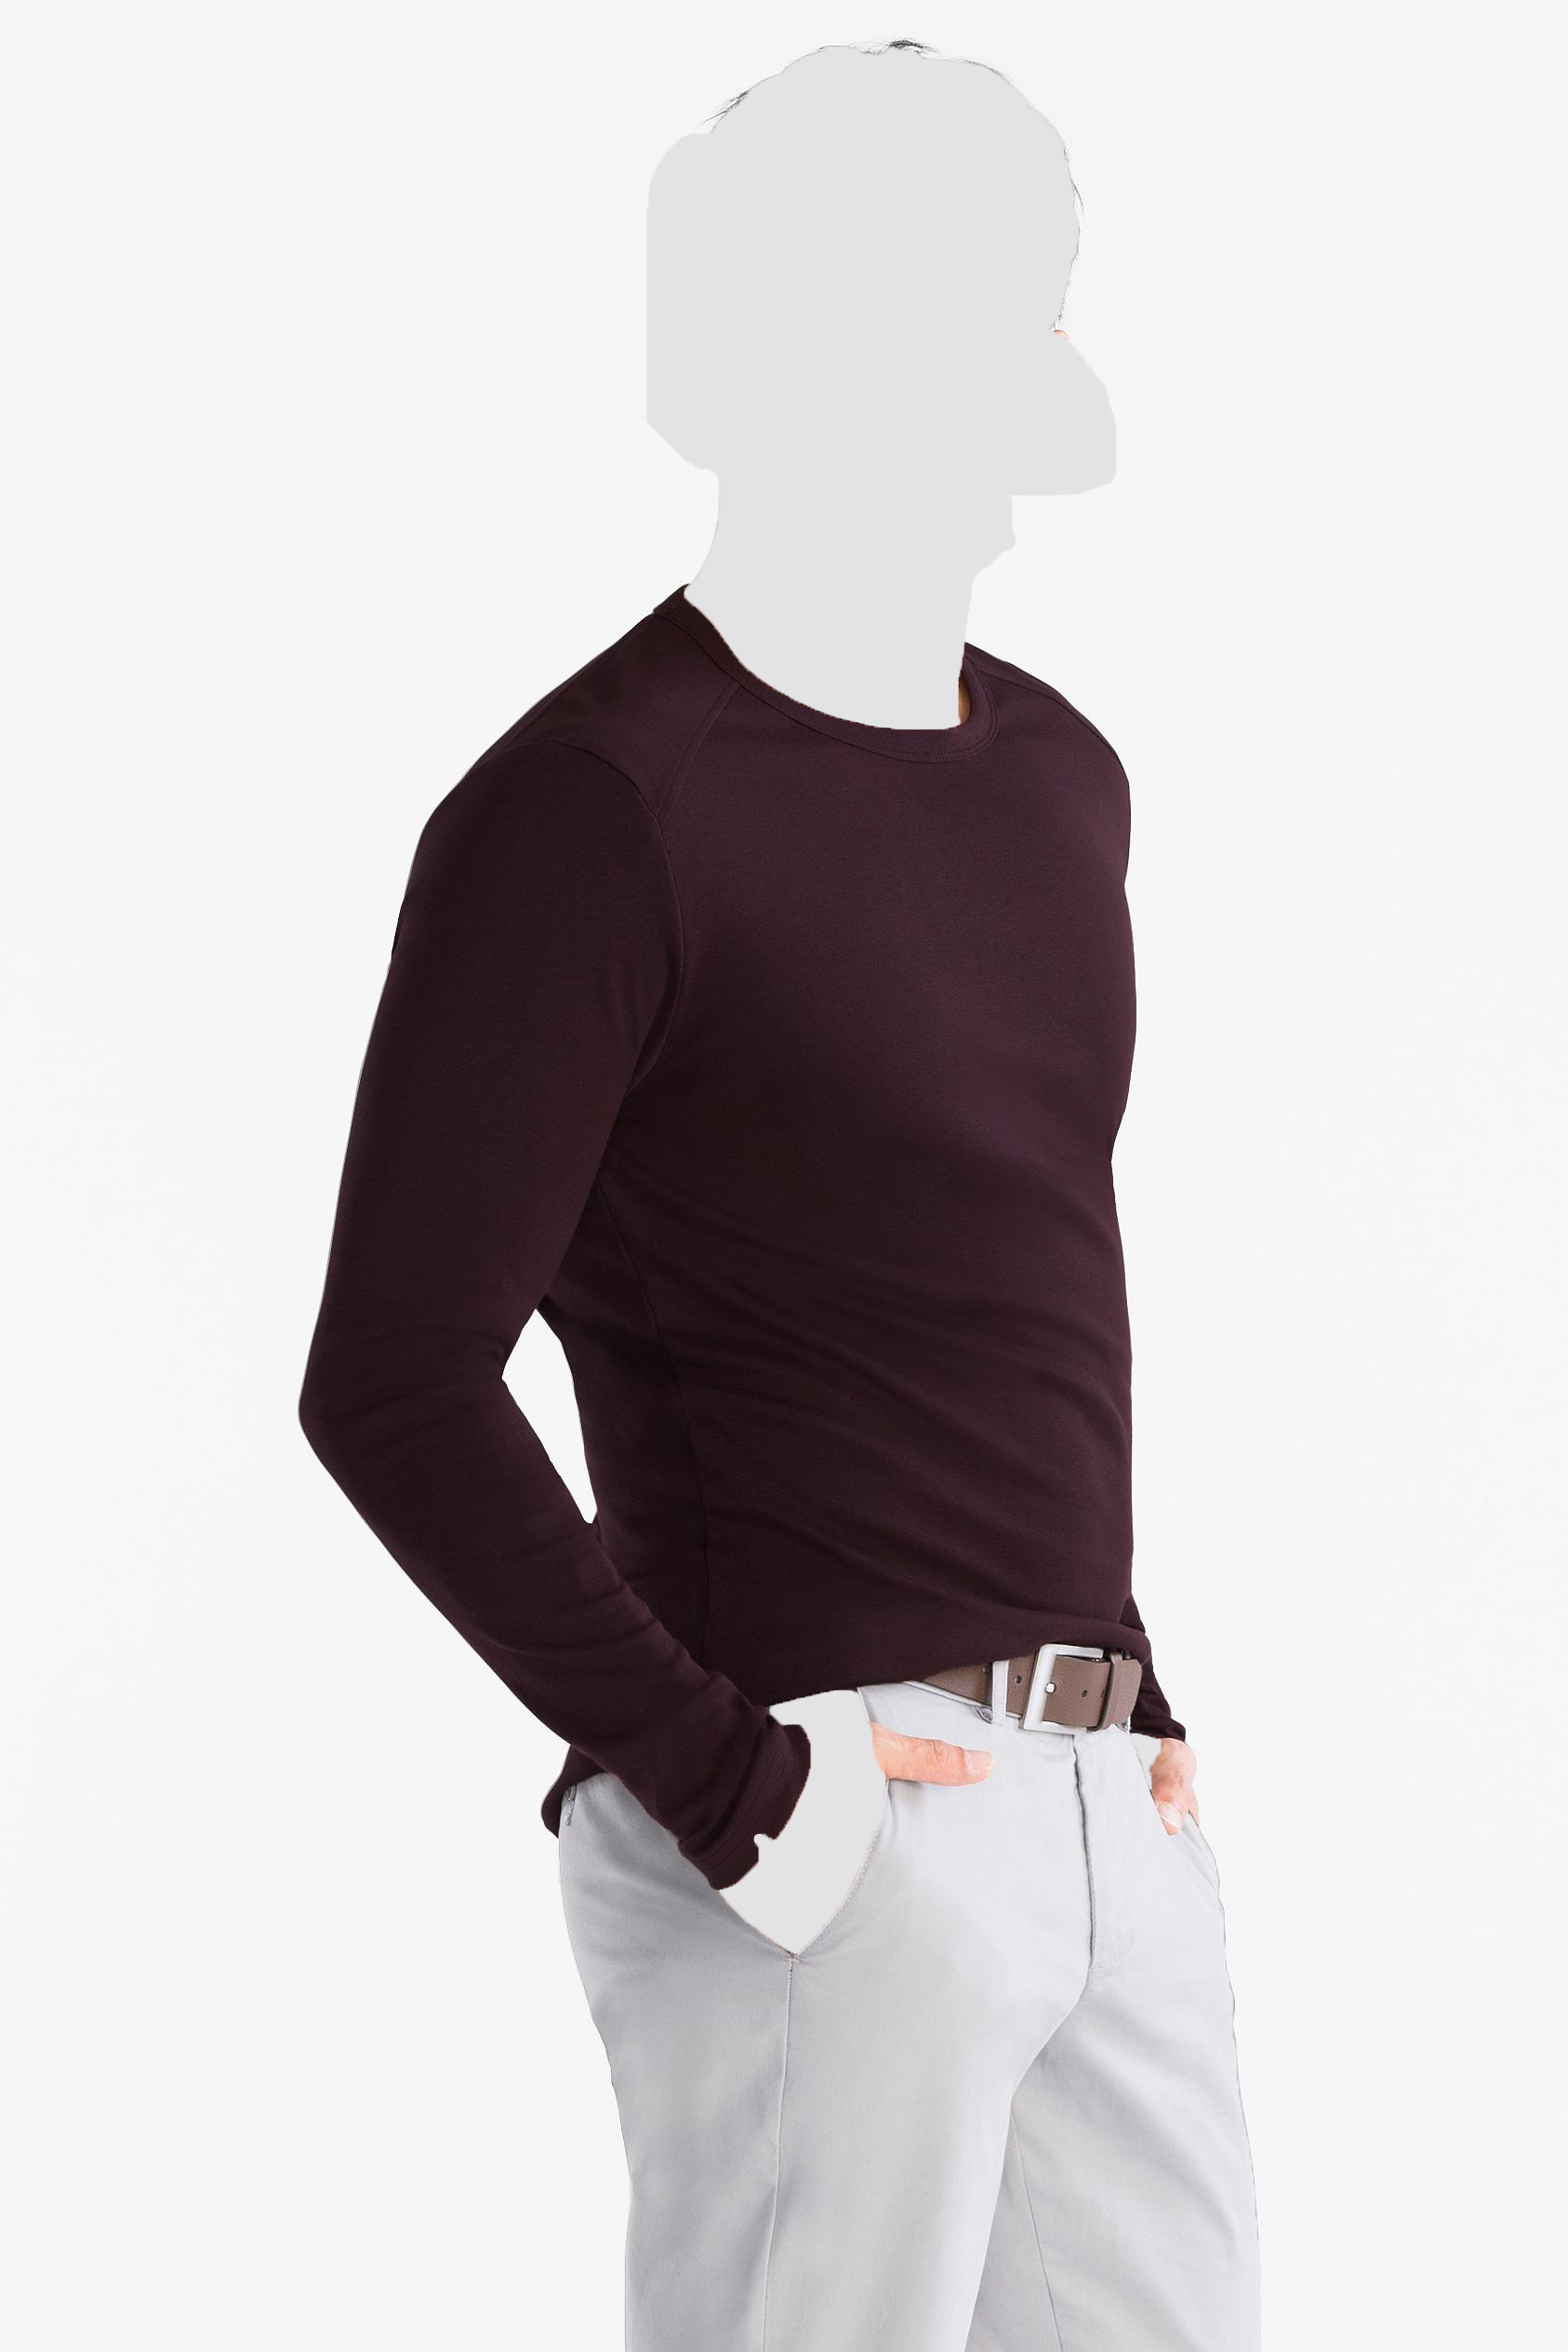teeshirt: (289, 588, 1248, 1837)
